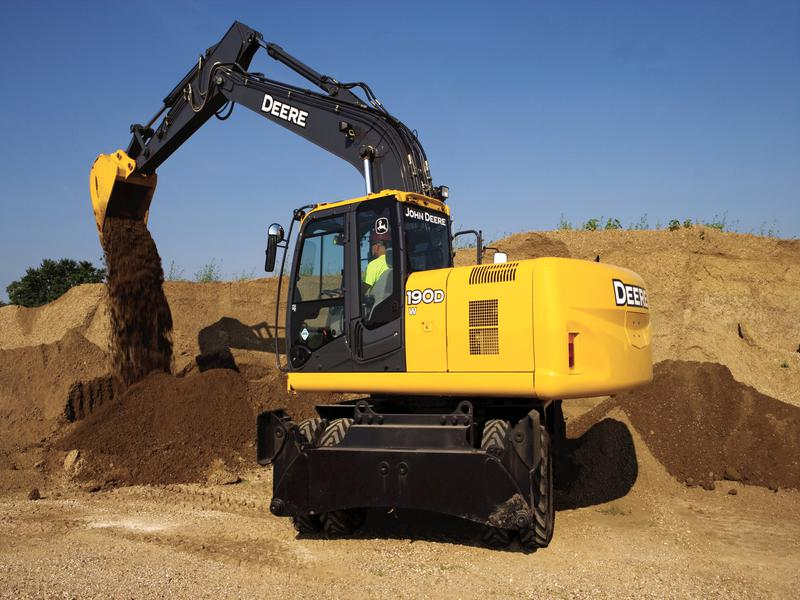shovel: (86, 16, 656, 555)
